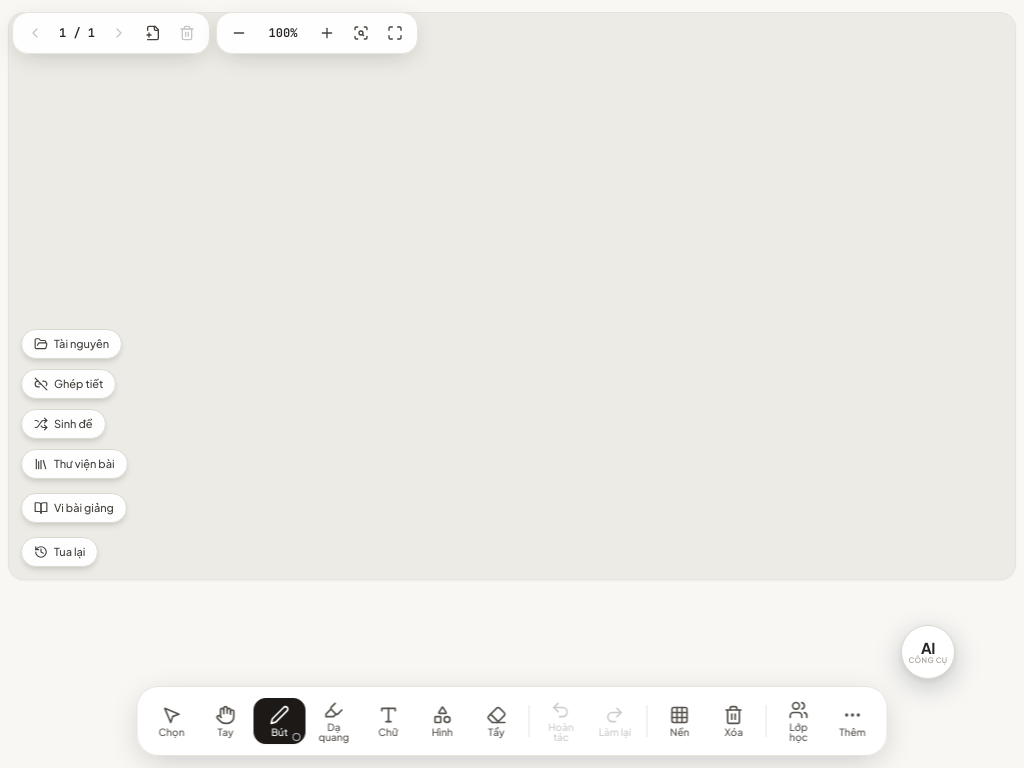
Test: Bảng chung ghép với tiết (tích hợp) › máy chủ báo tiết đã hết (410) khi lưu: bảng tự dọn và hiện thông báo
Step 1. Click the button with test id "pair-open" → (69, 384), box [21,369,116,399]
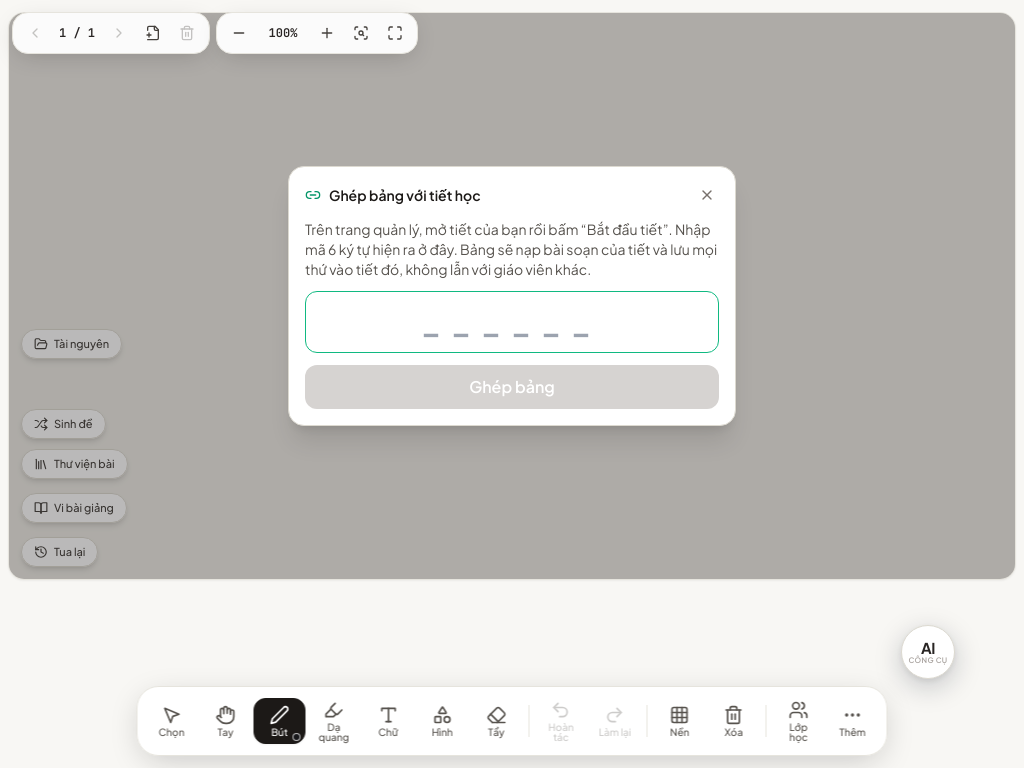
Step 2. Type "ABC234" into the field with test id "pair-code-input" → (512, 322), box [305,291,719,353]
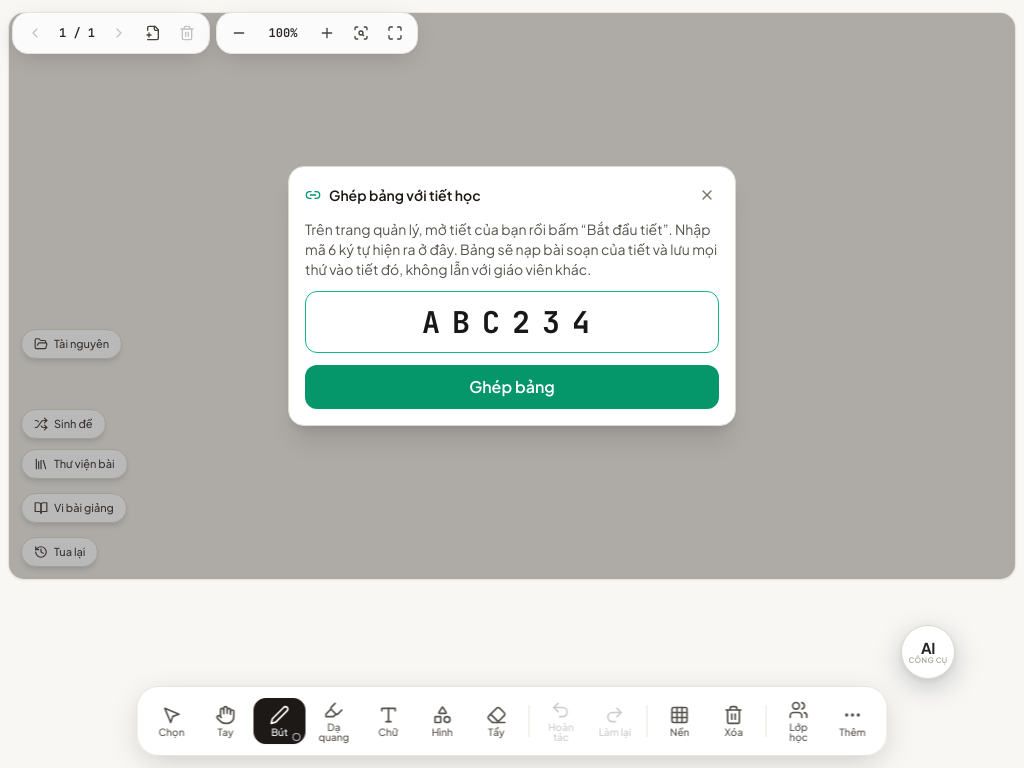
Step 3. Click the button with test id "pair-submit" → (512, 387), box [305,365,719,409]
Wait 10100 ms
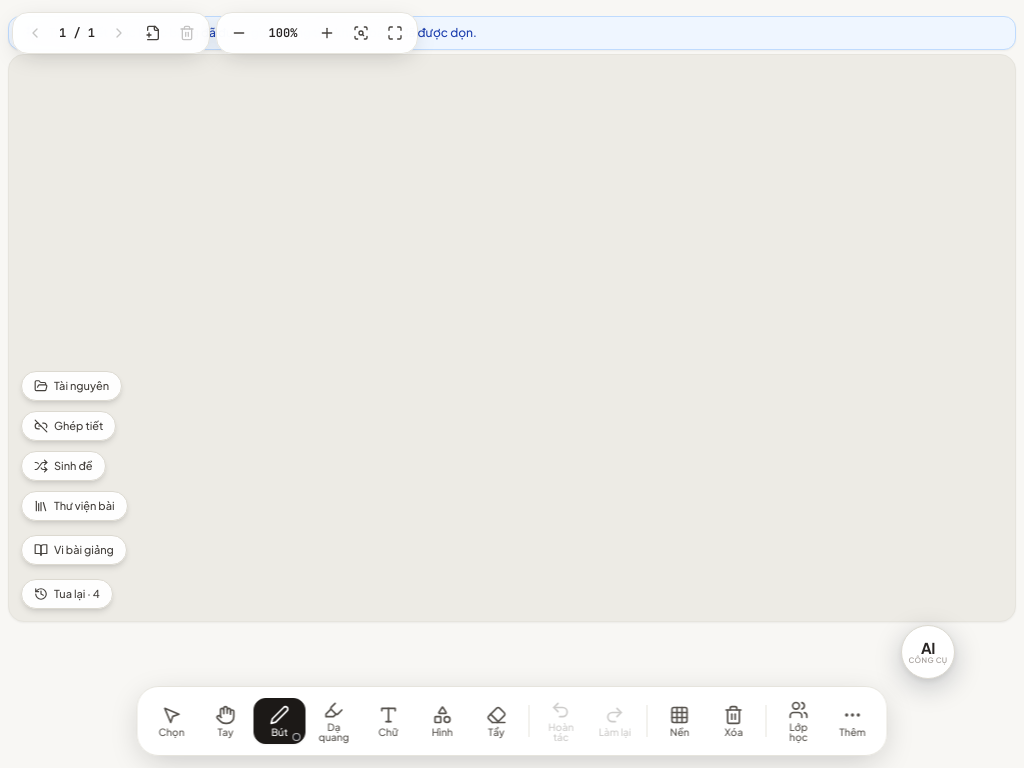
Expected: the button with test id "pair-open" reads "Ghép tiết", [21,411,116,441]
Expected: the element with test id "info-toast" shows "đã được dọn", [49,25,477,40]
